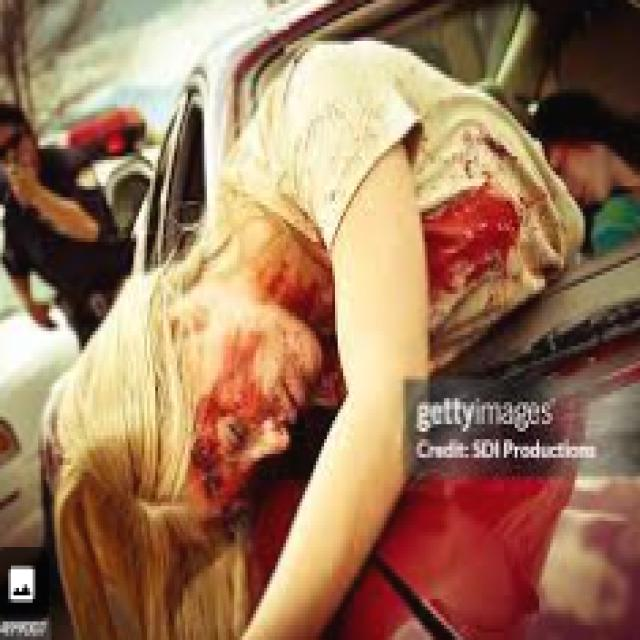injury: (42, 226, 335, 631), (195, 379, 247, 501)
